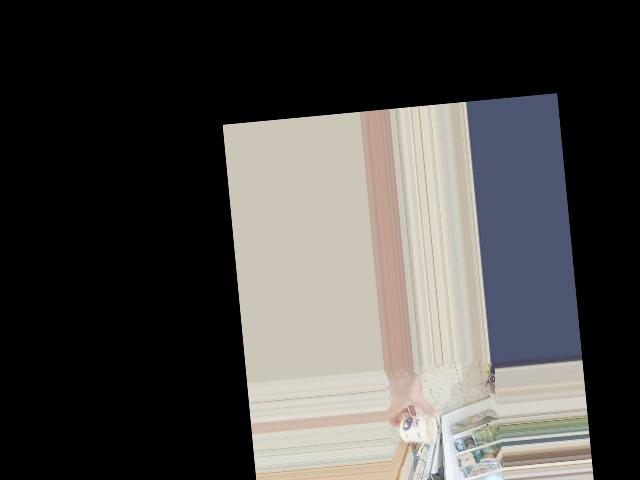cotage: (396, 411, 438, 447)
